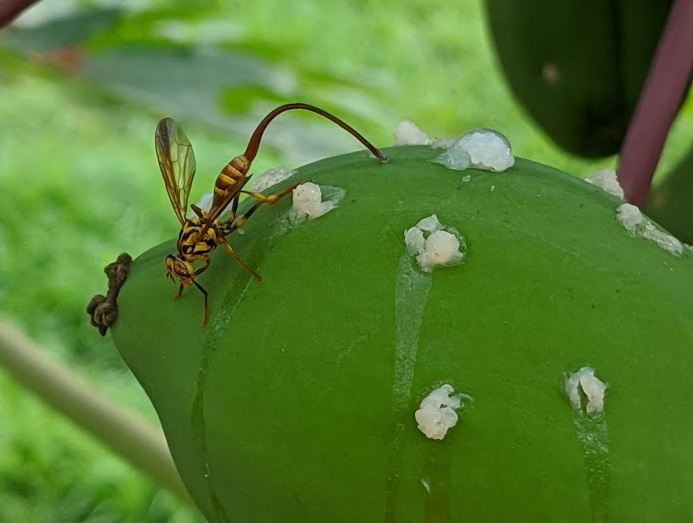Fruit fly: (119, 87, 337, 311)
